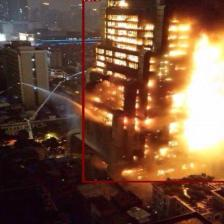fire: (81, 0, 224, 182)
